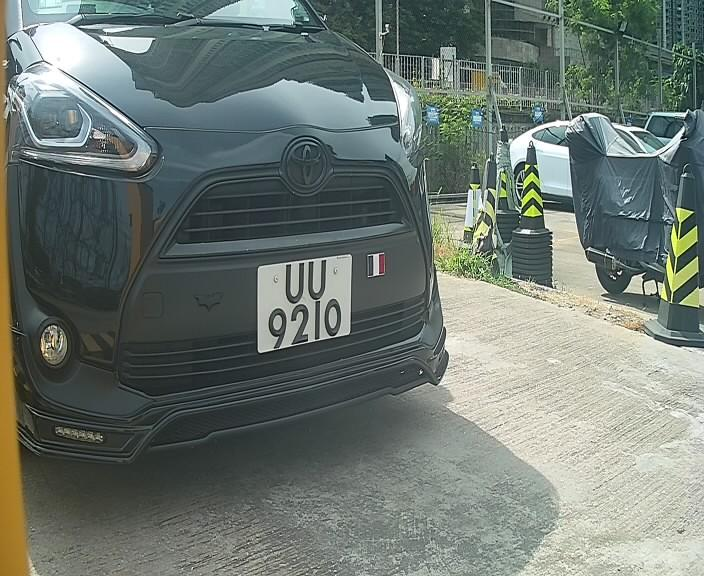License Plate: (249, 242, 365, 366)
